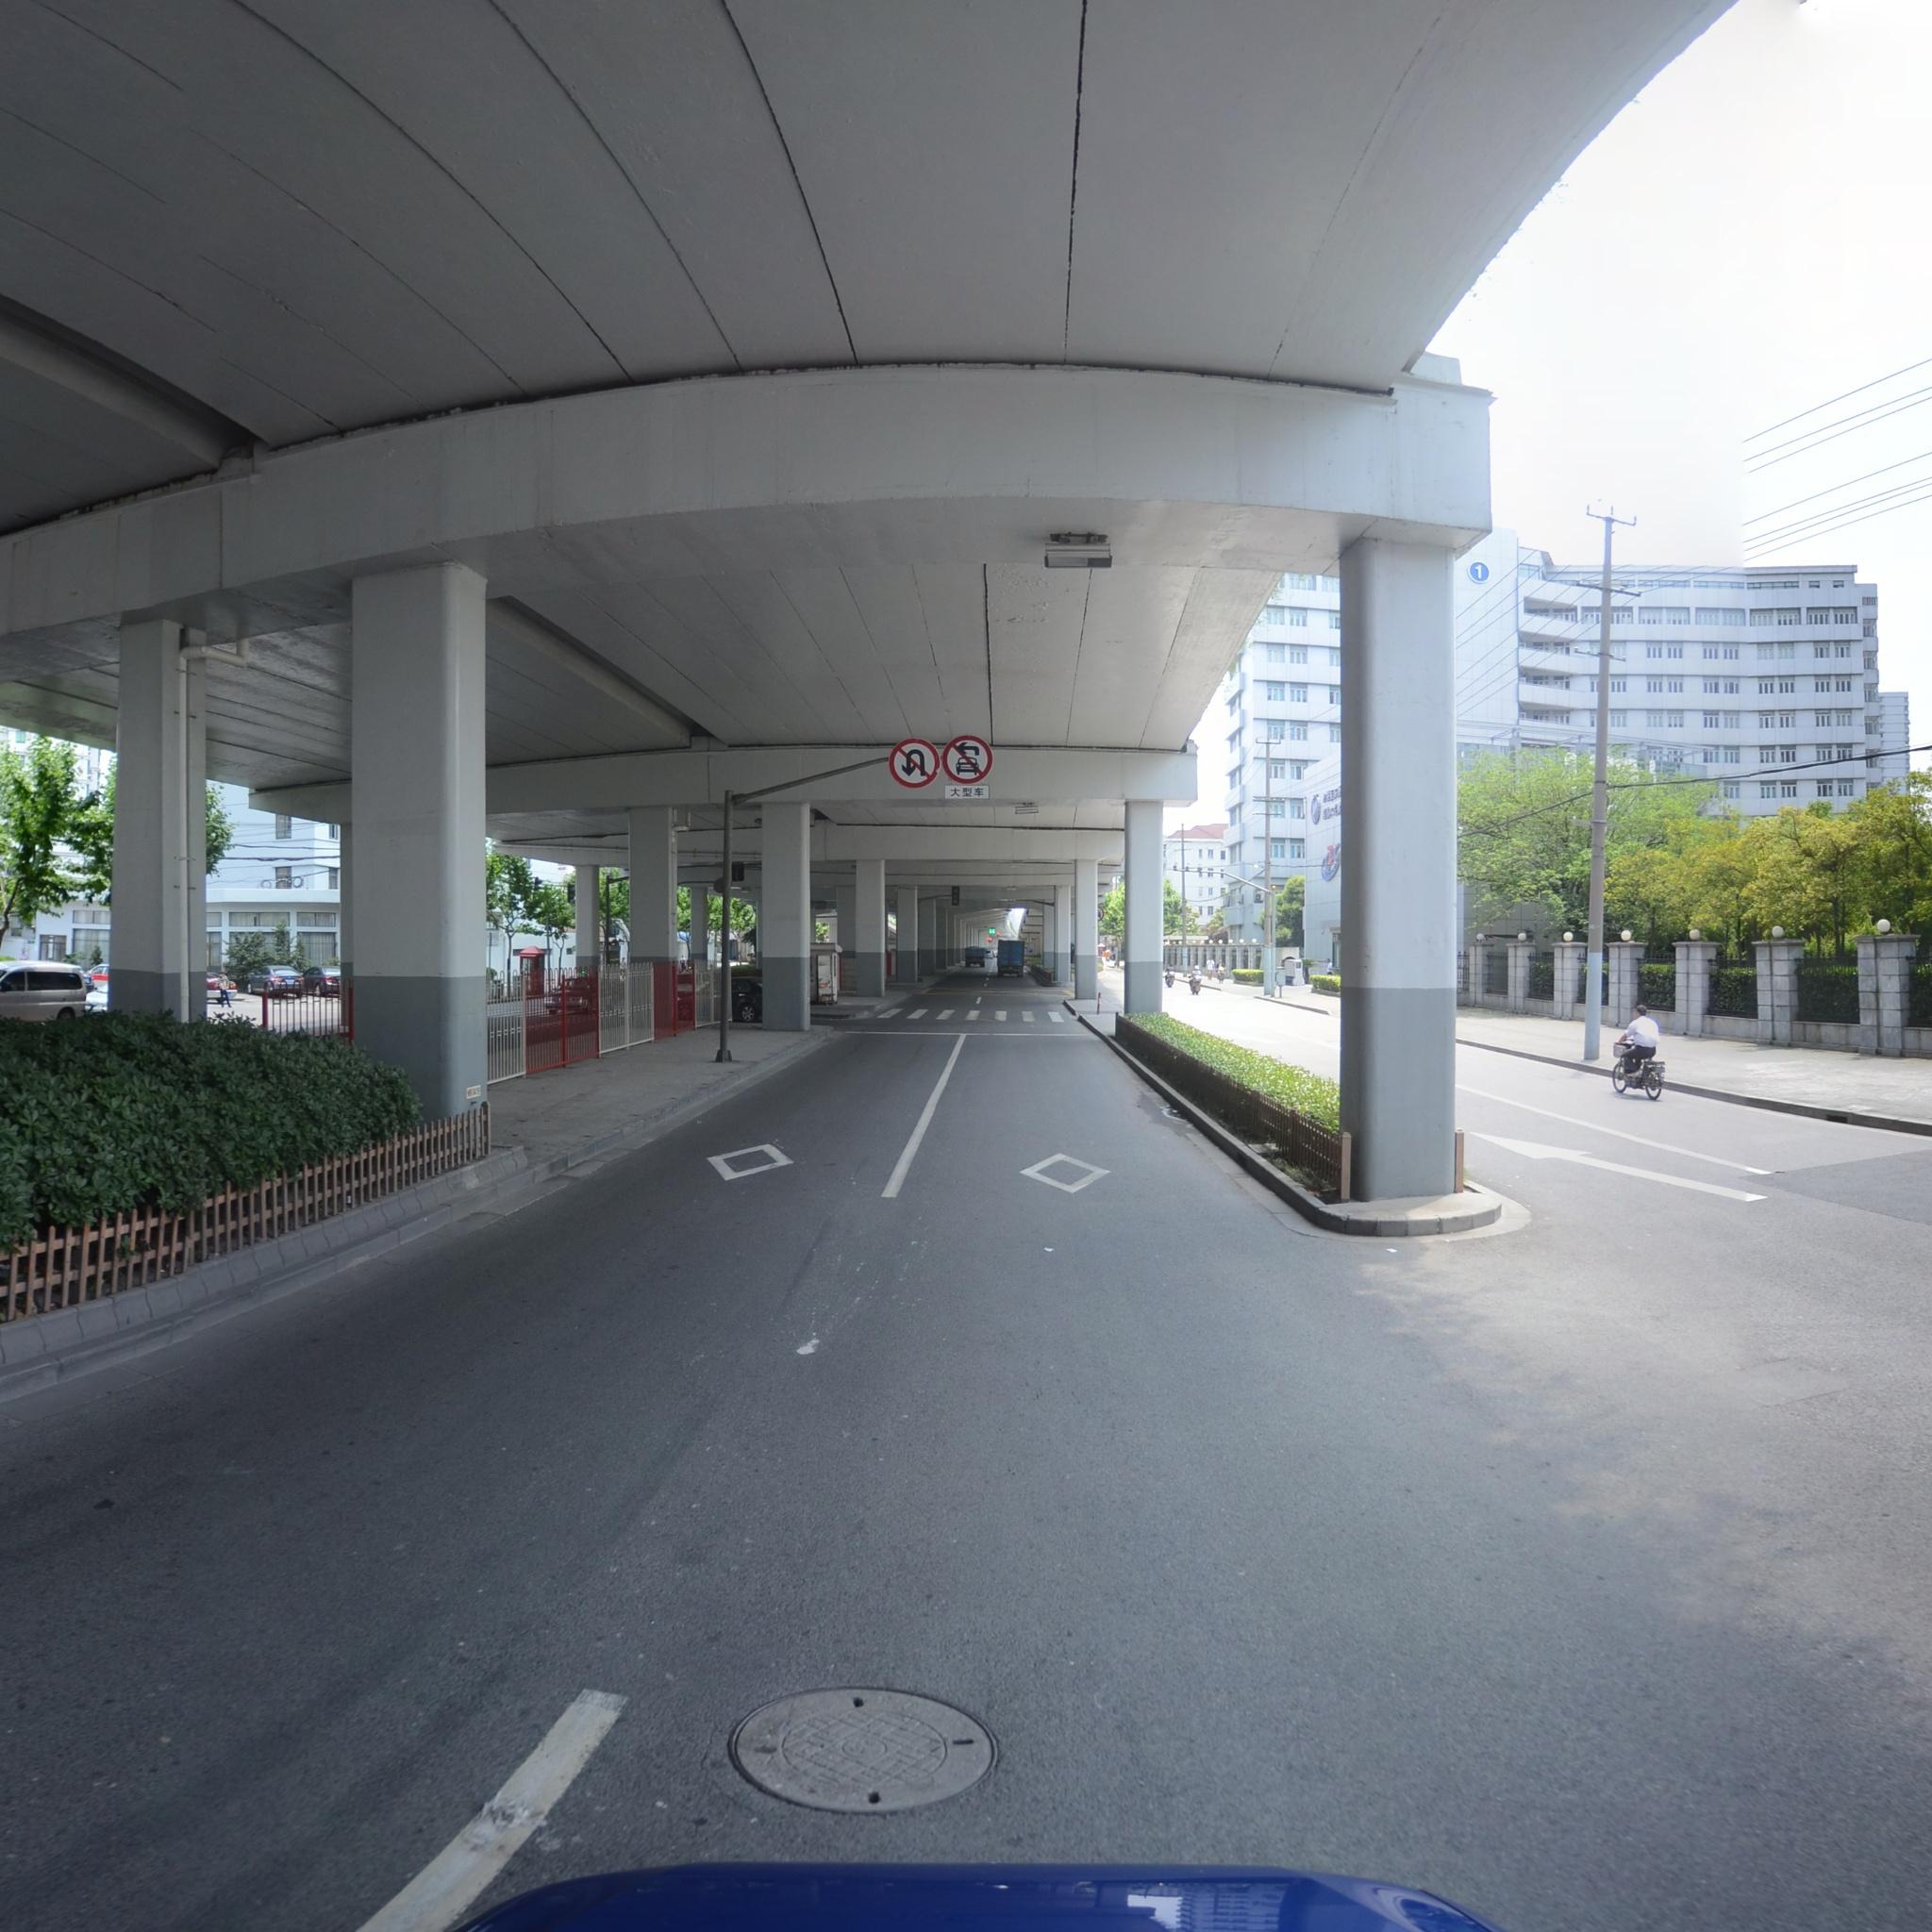p5: (890, 738, 941, 789)
